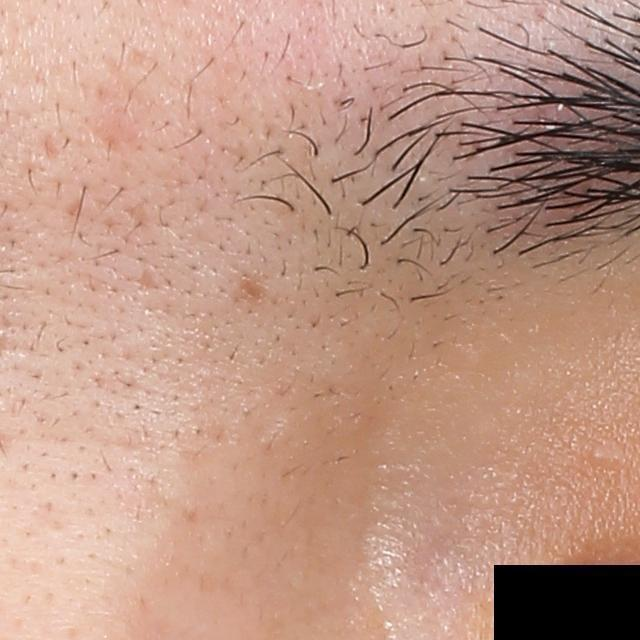atrophic_scar: (42, 128, 58, 159), (135, 269, 157, 290)
